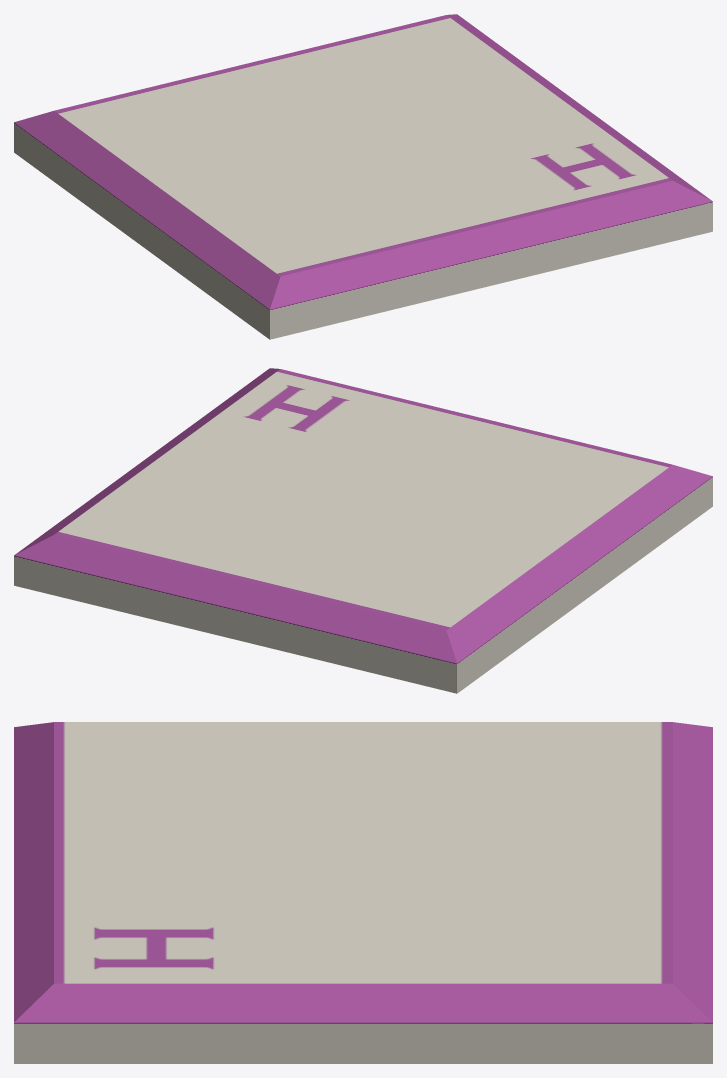
Rendered from Pink_PPlate.fbx.
3 renders of one model, top to bottom at view 1: azimuth 30°, elevation 25°; view 2: azimuth 150°, elevation 25°; view 3: azimuth 270°, elevation 25°, orthographic. The views are drawn at different scales.
Parts seen in each view (by area): view 1: pCube1; view 2: pCube1; view 3: pCube1.
Boxes of the visible parts, x1=… form: pCube1: x1=14, y1=14, x2=712, y2=339; pCube1: x1=14, y1=368, x2=712, y2=693; pCube1: x1=14, y1=722, x2=712, y2=1063.
Size of the model in its own units: 100 by 10 by 100.
Materials: 1 (1 with a texture image).
